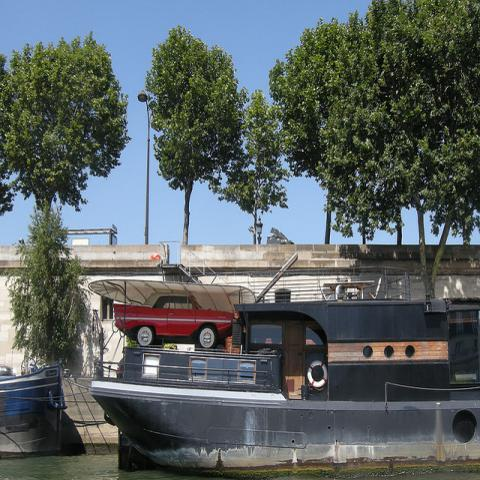car: (114, 291, 232, 353)
